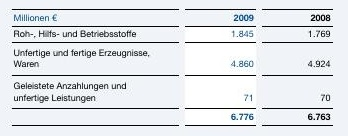table: (0, 0, 348, 136)
